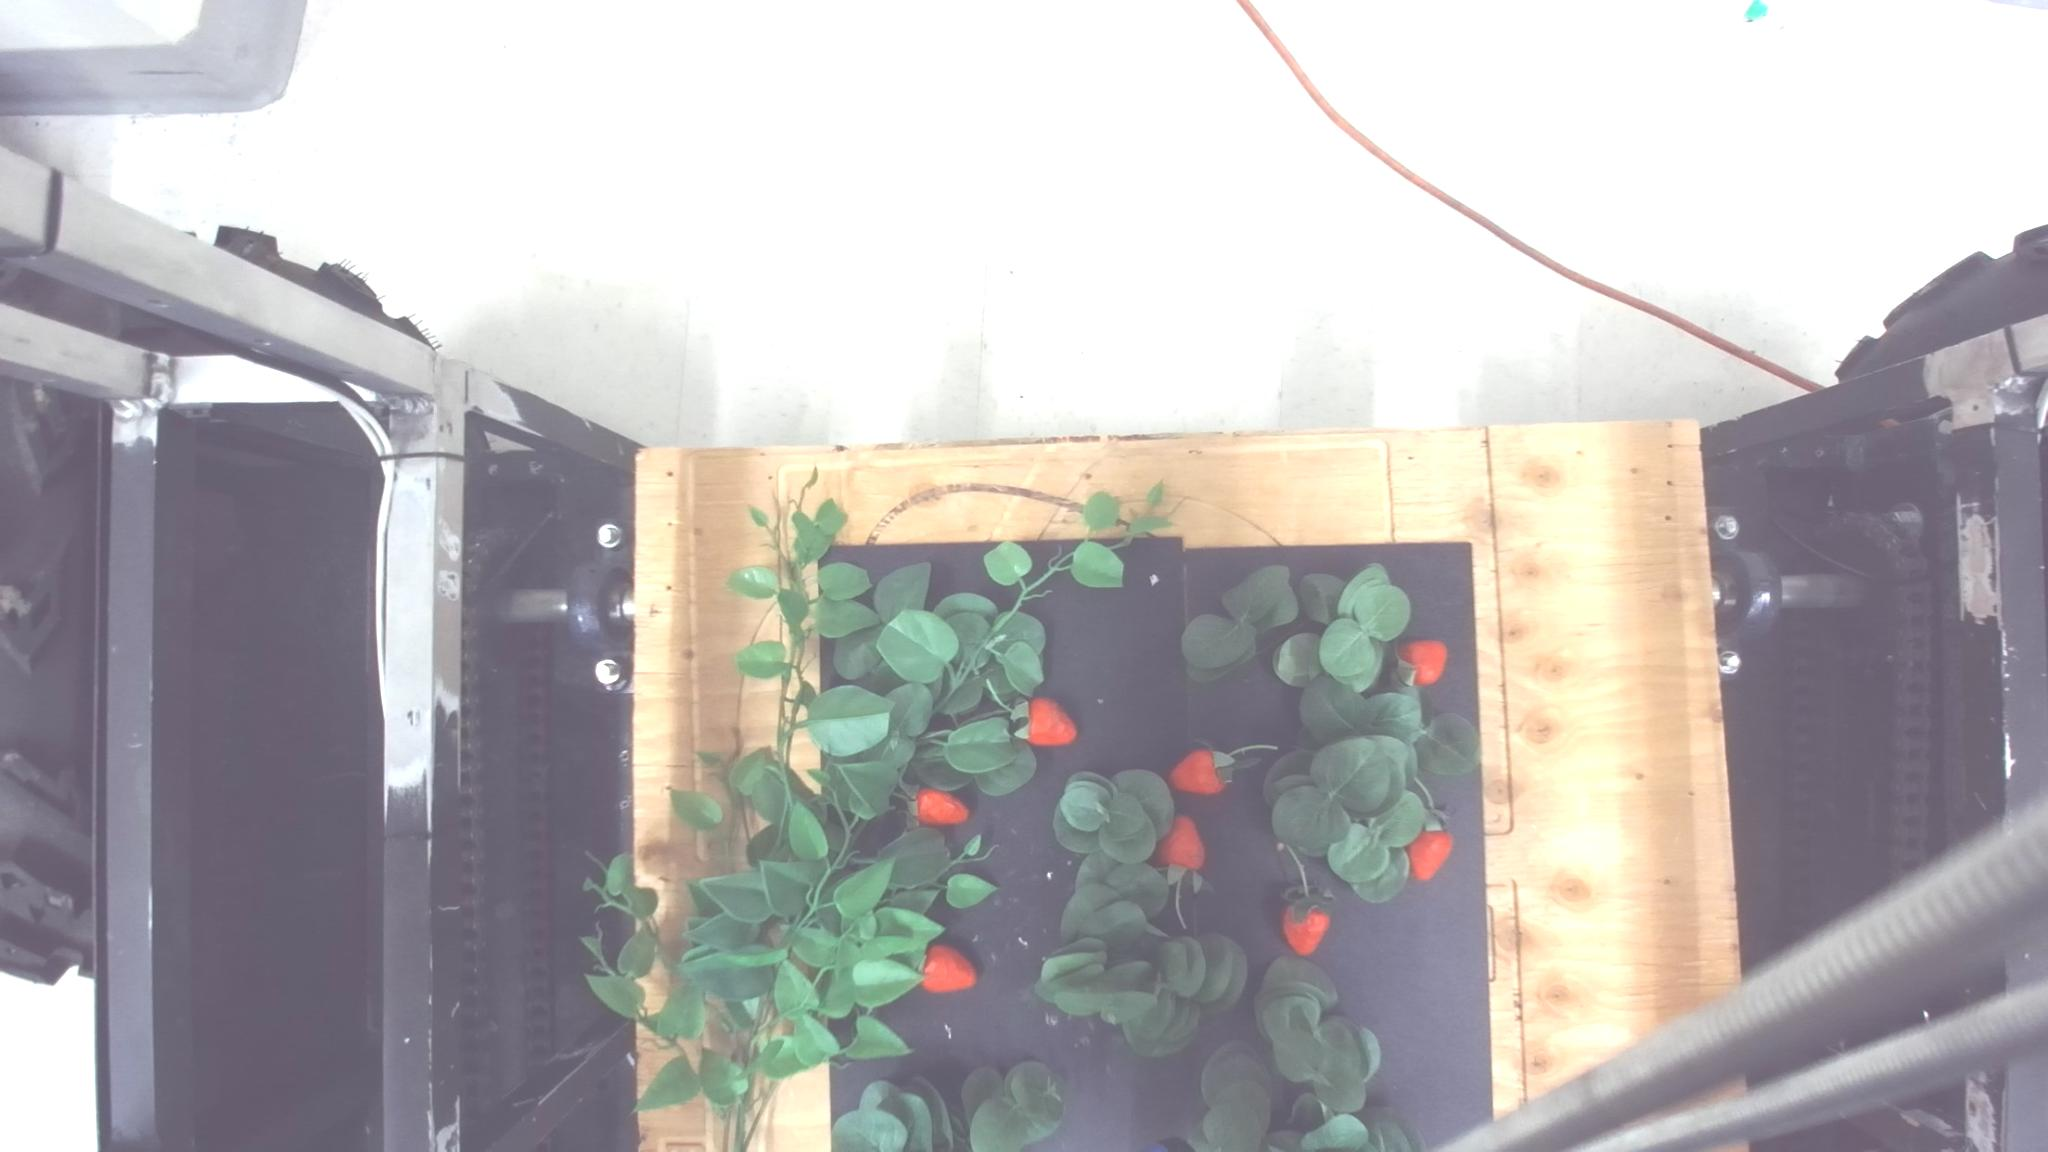strawberry: (1152, 814, 1204, 876), (1167, 747, 1231, 796), (1280, 897, 1332, 956), (917, 942, 976, 993), (1023, 698, 1077, 747), (1405, 828, 1453, 881), (1397, 639, 1447, 686), (914, 786, 971, 826)
